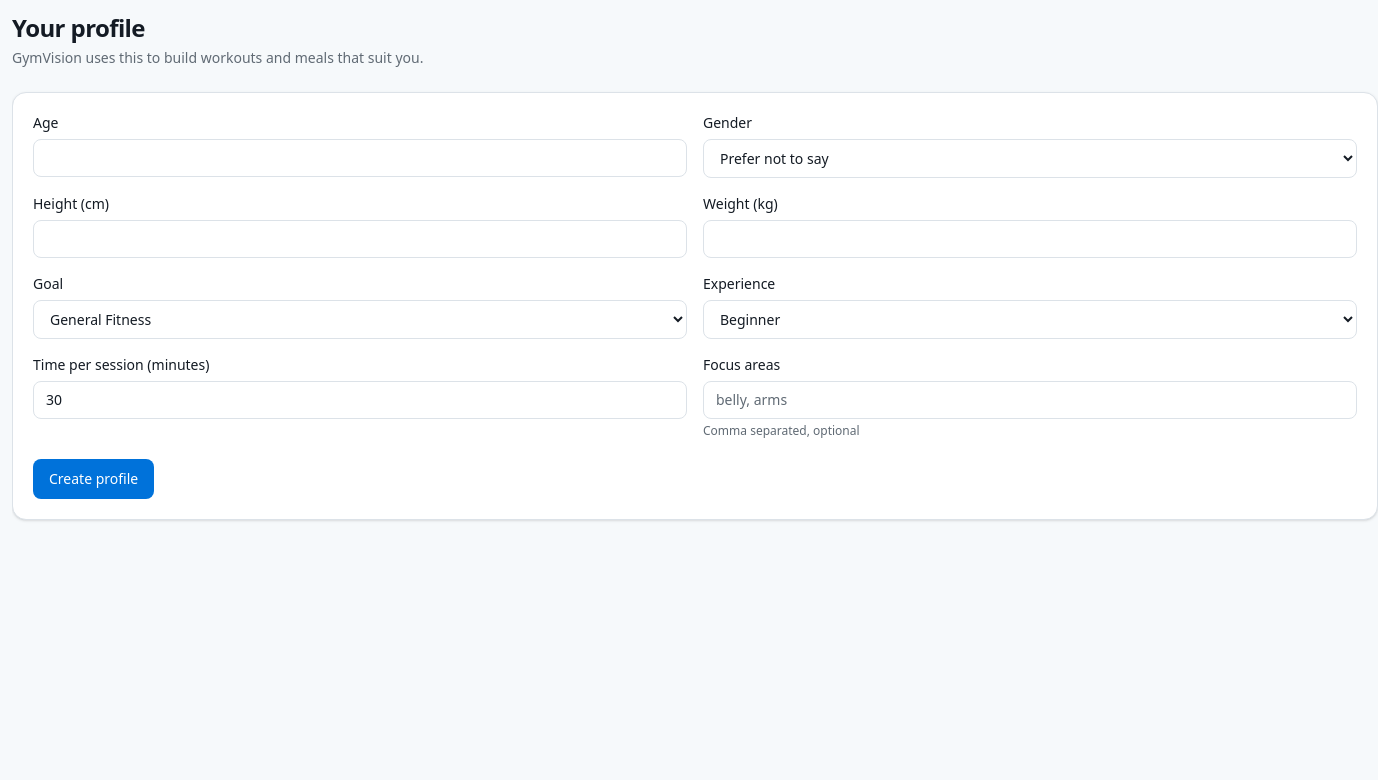
it: the profile form › saves a valid profile
Check: the button "Create profile" is shown, box [33,459,154,499]
Type "30" into the number field labelled "Age". click: (360, 158)
box: [33,139,687,177]
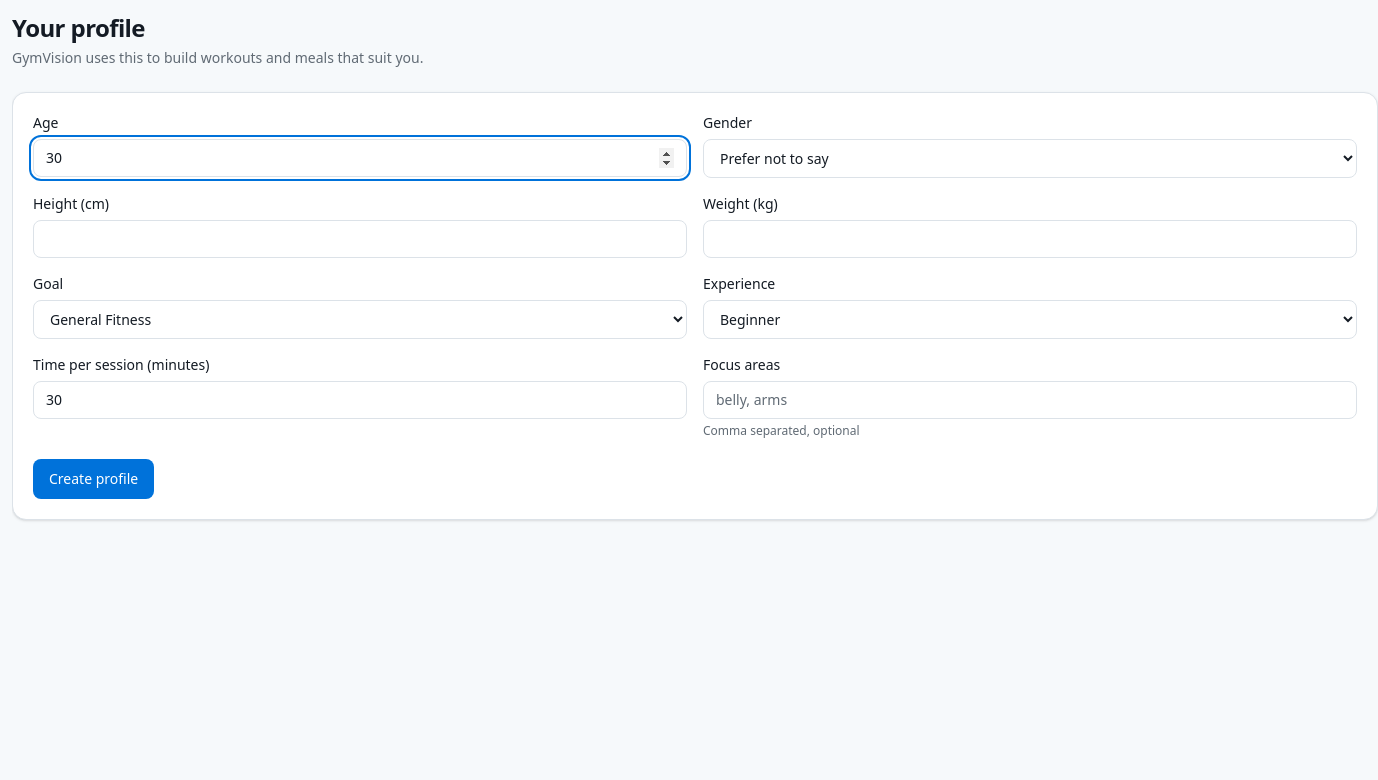
Type "178" into the number field labelled "Height (cm)". click: (360, 239)
box: [33,220,687,258]
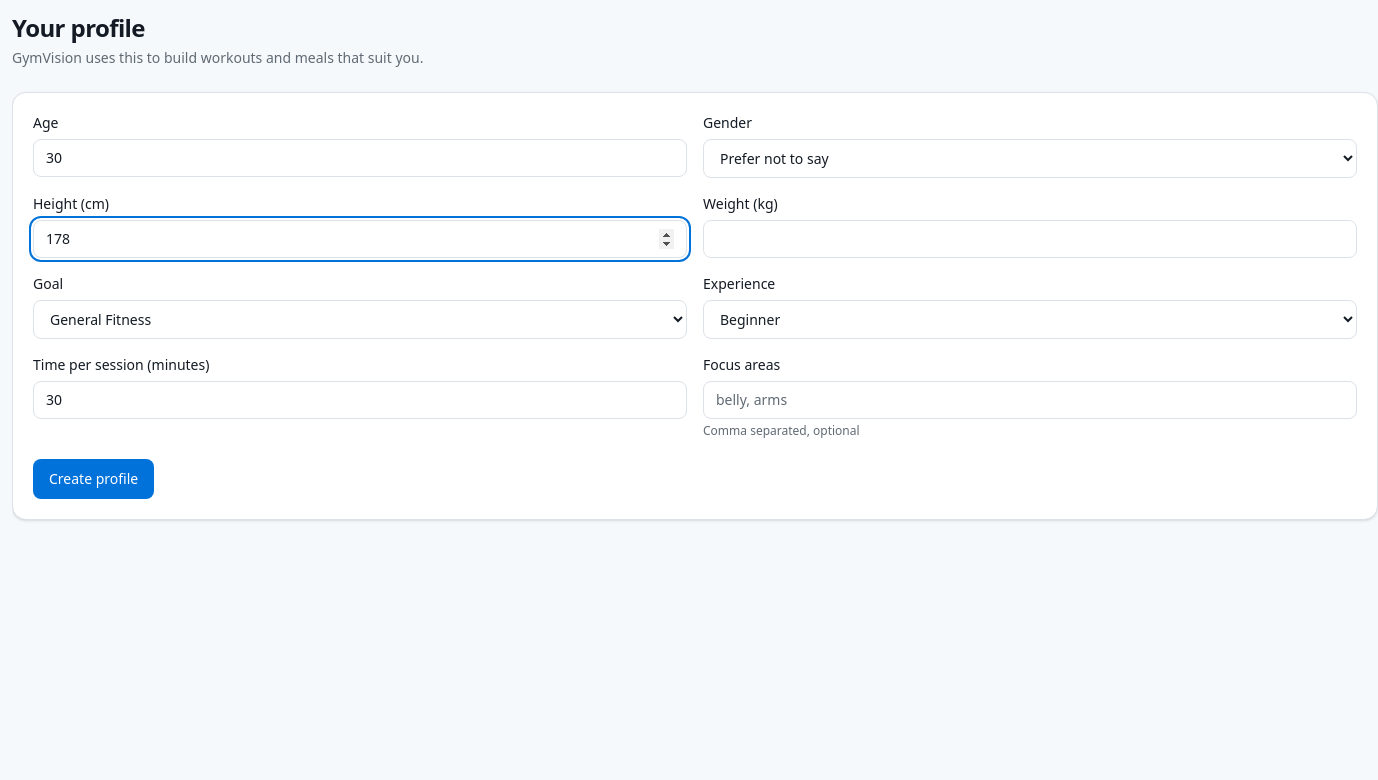
Type "78" into the number field labelled "Weight (kg)". click: (1030, 239)
box: [703,220,1357,258]
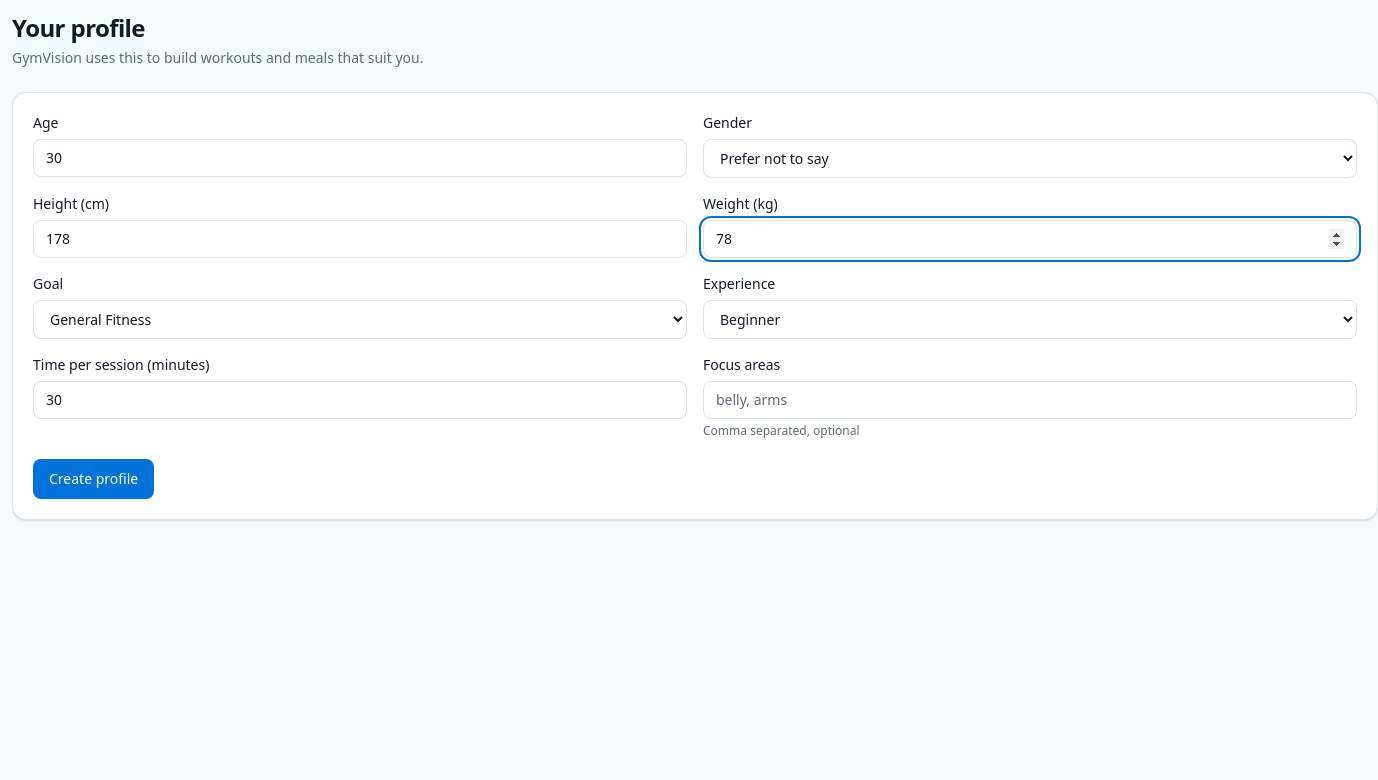
Click the button "Create profile". click: (94, 479)
box: [33,459,154,499]
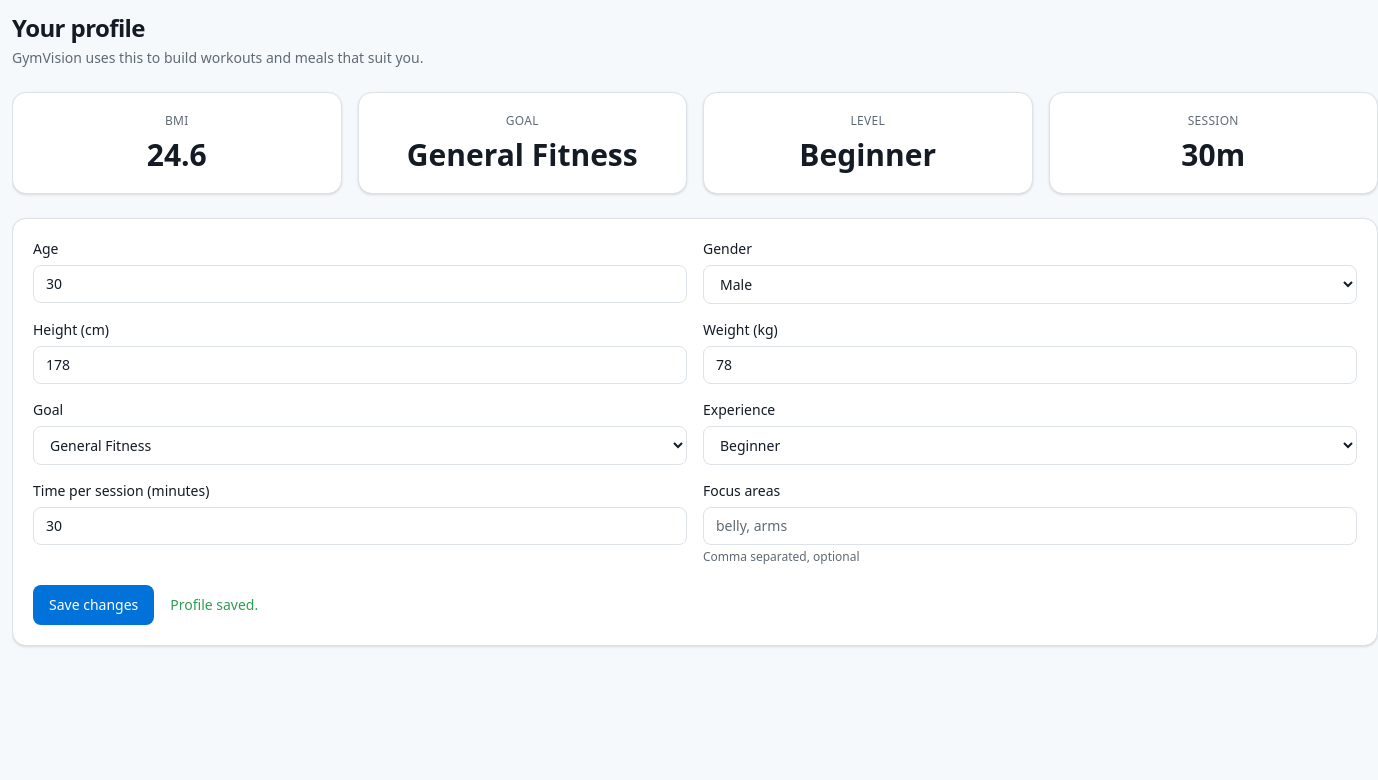
Check: the message shows "Profile saved", box [170,595,258,614]
